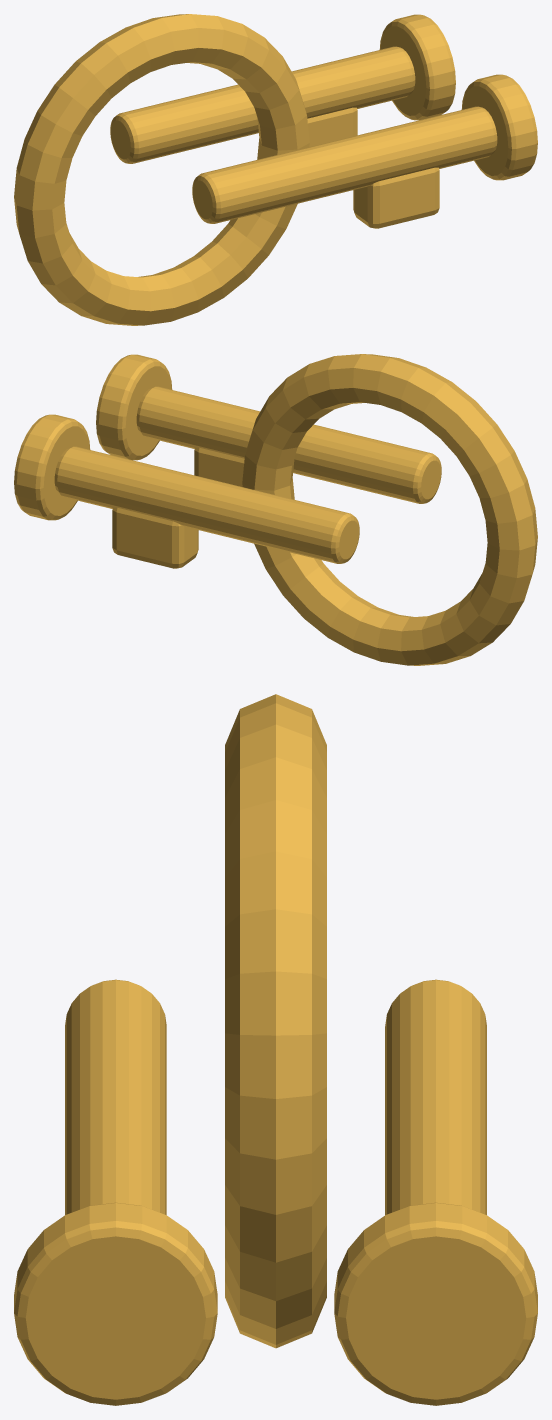
File: pickup_school_keys.glb
3 renders of one model, top to bottom at view 1: azimuth 30°, elevation 25°; view 2: azimuth 150°, elevation 25°; view 3: azimuth 270°, elevation 25°, orthographic. The views are drawn at different scales.
Parts seen in each view (by area): view 1: School key ring, Key shaft, Key shaft.001, Round key bow, Round key bow.001, Key tooth, Key tooth.001; view 2: School key ring, Key shaft.001, Key shaft, Round key bow.001, Round key bow, Key tooth.001, Key tooth; view 3: School key ring, Round key bow, Round key bow.001, Key shaft.001, Key shaft.
Part boxes in pixels (left/top/right/bottom): School key ring: left=14, top=14, right=309, bottom=325; Key shaft: left=192, top=106, right=497, bottom=223; Key shaft.001: left=110, top=46, right=415, bottom=163; Round key bow: left=461, top=74, right=537, bottom=180; Round key bow.001: left=379, top=14, right=455, bottom=120; Key tooth: left=353, top=167, right=439, bottom=228; Key tooth.001: left=307, top=107, right=357, bottom=146; School key ring: left=242, top=354, right=537, bottom=665; Key shaft.001: left=54, top=446, right=359, bottom=563; Key shaft: left=136, top=386, right=441, bottom=503; Round key bow.001: left=14, top=414, right=90, bottom=520; Round key bow: left=96, top=354, right=172, bottom=460; Key tooth.001: left=112, top=507, right=198, bottom=568; Key tooth: left=194, top=447, right=244, bottom=486; School key ring: left=225, top=694, right=326, bottom=1348; Round key bow: left=14, top=1202, right=217, bottom=1405; Round key bow.001: left=334, top=1202, right=537, bottom=1405; Key shaft.001: left=385, top=979, right=486, bottom=1215; Key shaft: left=65, top=979, right=166, bottom=1214.
Bounding box in the file's own units: 0.7075 × 0.45 × 0.36.
